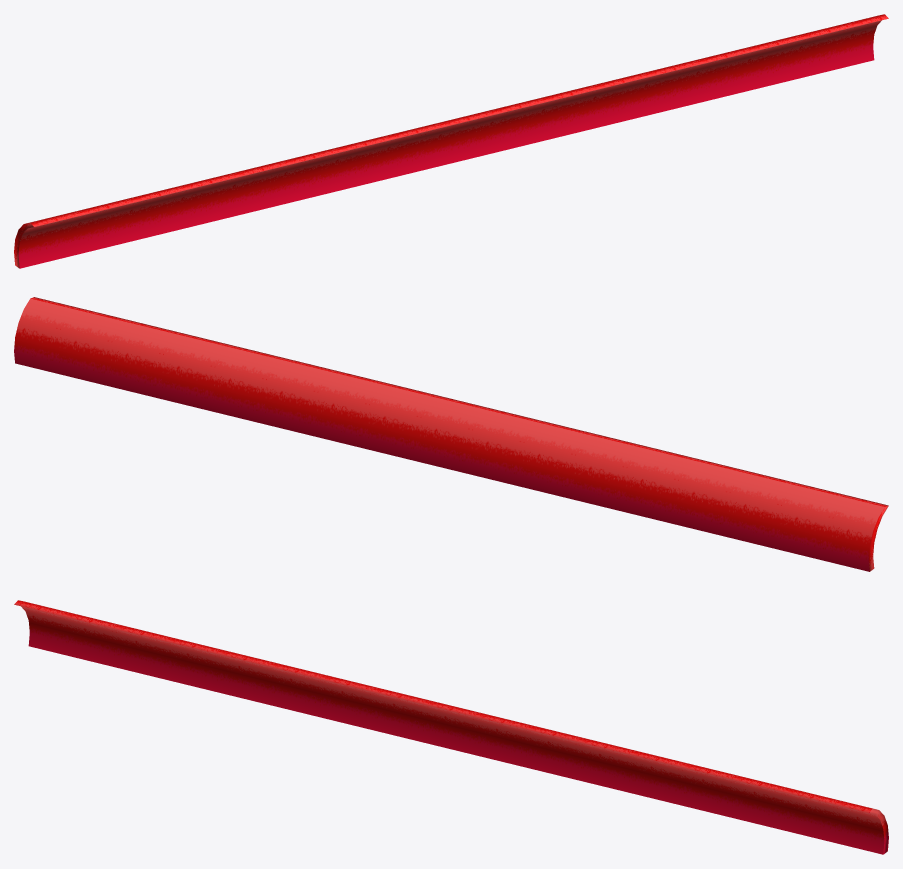
The model's file is Fast.fbx.
3 views of the same model, one above another, from view 1: azimuth 30°, elevation 25°; view 2: azimuth 150°, elevation 25°; view 3: azimuth 330°, elevation 25° (orthographic).
Parts seen in each view (by area): view 1: Fast; view 2: Fast; view 3: Fast.
Boxes of the visible parts, <box> form: Fast: <box>14,14,888,268</box>; Fast: <box>14,297,888,571</box>; Fast: <box>14,600,888,854</box>.
Bounding box in the file's own units: 747 × 44.93 × 30.8.
